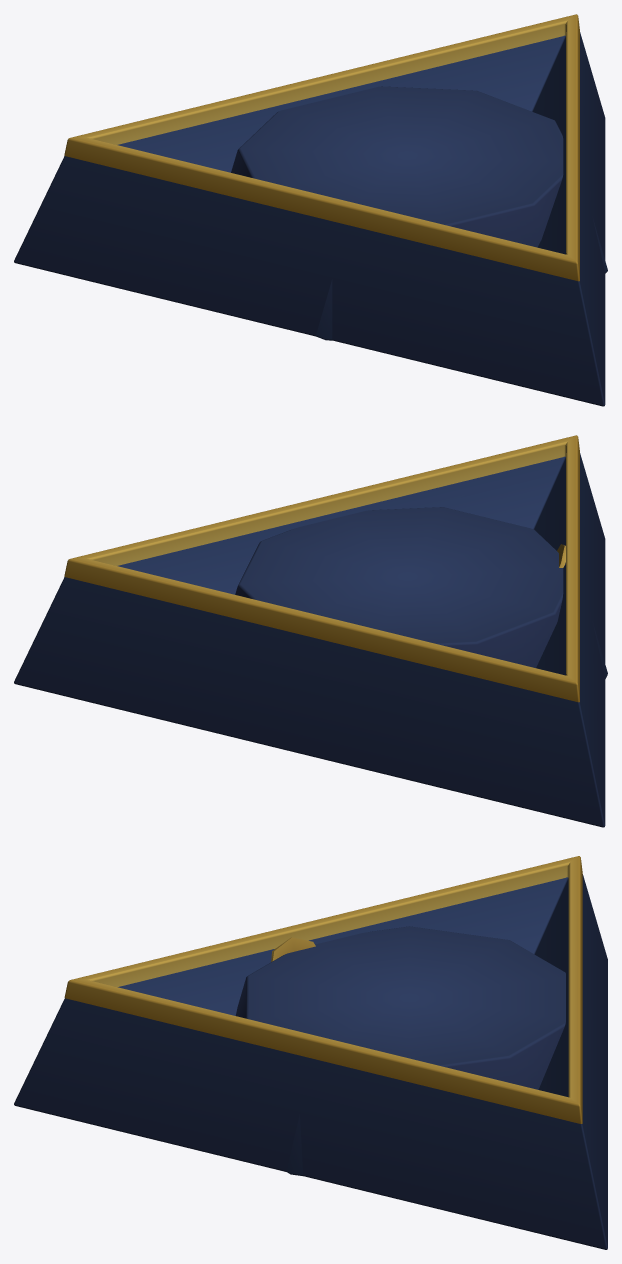
File: lg_ferryman_tricorn.glb
3 renders of one model, top to bottom at view 1: azimuth 30°, elevation 25°; view 2: azimuth 150°, elevation 25°; view 3: azimuth 270°, elevation 25°, orthographic.
Visible parts, largest first — view 1: lg_ferryman_tricorn; view 2: lg_ferryman_tricorn; view 3: lg_ferryman_tricorn.
Part boxes in pixels (box(x1,y1,x2,y2)): lg_ferryman_tricorn: box(14, 14, 607, 406); lg_ferryman_tricorn: box(14, 435, 607, 827); lg_ferryman_tricorn: box(14, 856, 607, 1249).
Size of the model in its own units: 3.44 by 0.7 by 2.99.
